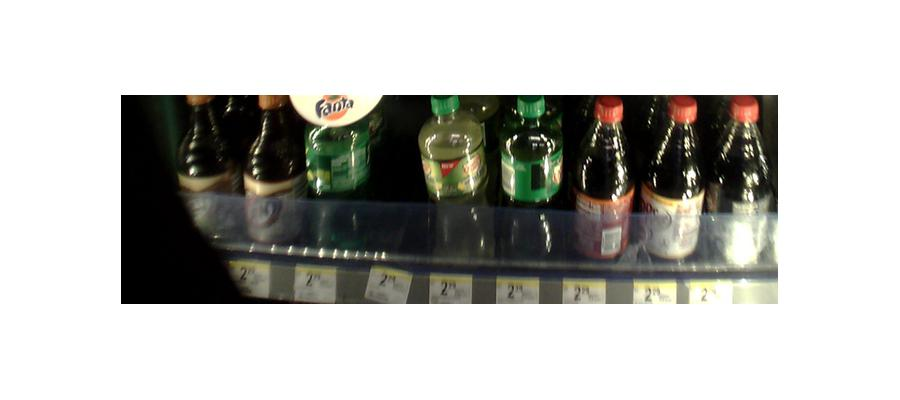bottle: (493, 94, 566, 259), (301, 91, 380, 243), (422, 96, 490, 259), (708, 97, 772, 270), (640, 100, 706, 263), (573, 97, 633, 261), (244, 90, 303, 247), (177, 94, 237, 246)
